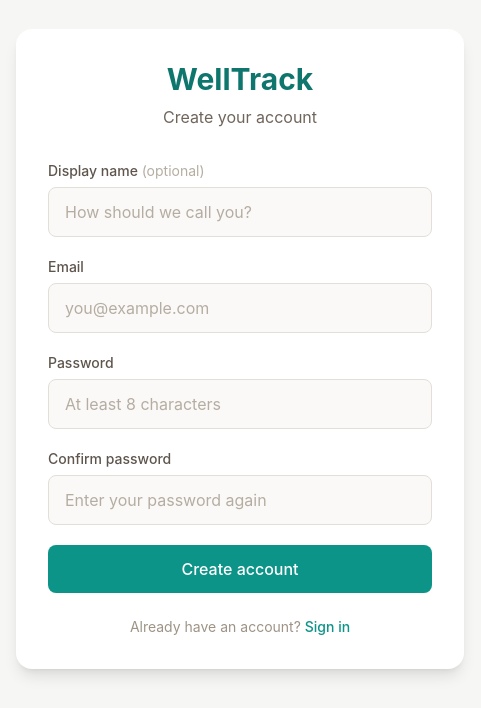
Test: RegisterPage › shows validation error for password mismatch
Check: the button "Create account" is shown, box [48, 545, 432, 593]
Type "test@example.com" into the field labelled "Email" at (240, 308), box [48, 283, 432, 333]
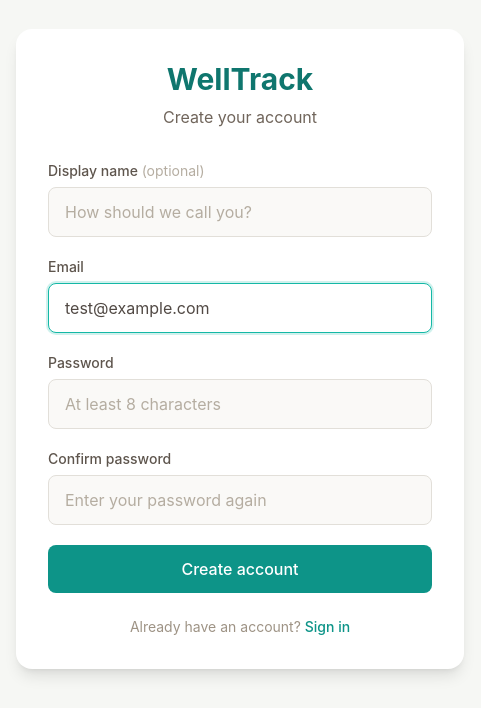
Type "password123" into the password field labelled "Password" at (240, 404), box [48, 379, 432, 429]
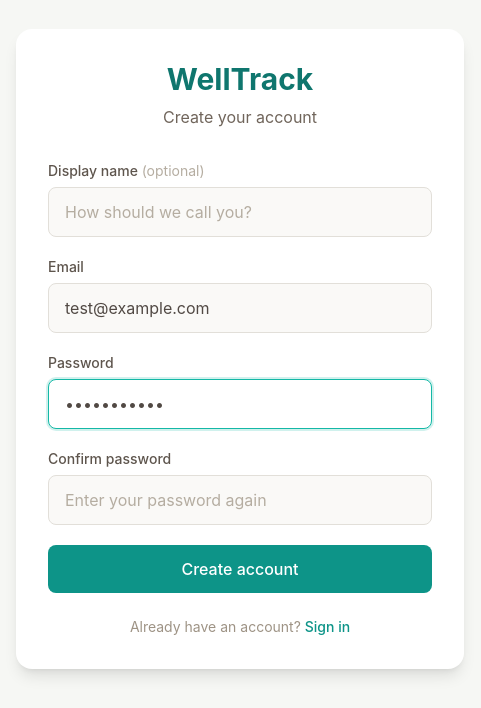
Type "different456" into the password field labelled "Confirm password" at (240, 500), box [48, 475, 432, 525]
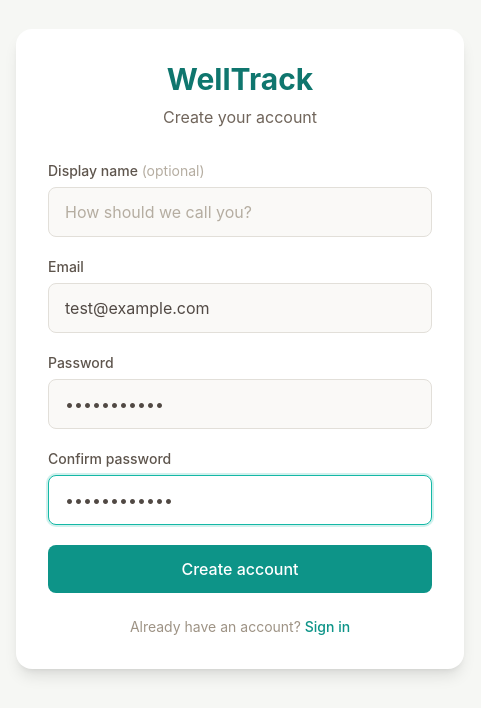
Click the button "Create account" at (240, 569), box [48, 545, 432, 593]
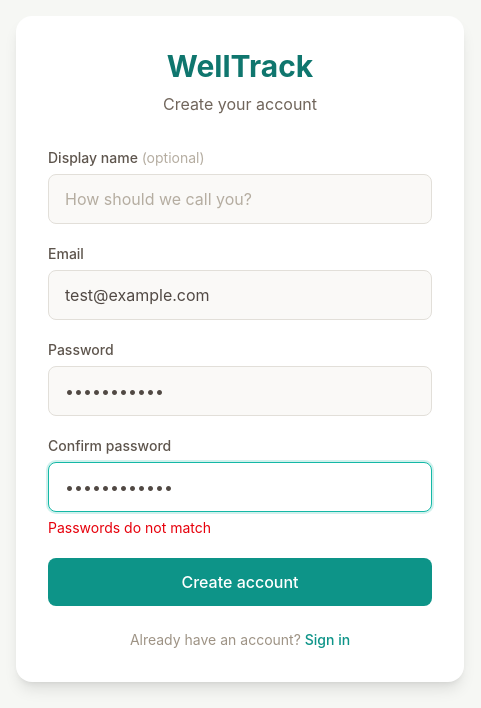
Check: the text "Passwords do not match" is shown, box [48, 519, 211, 536]
